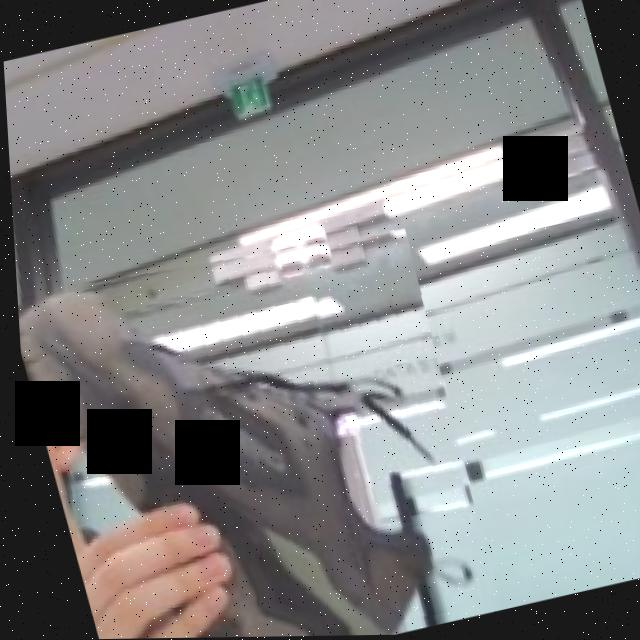shoe: (10, 207, 502, 640)
